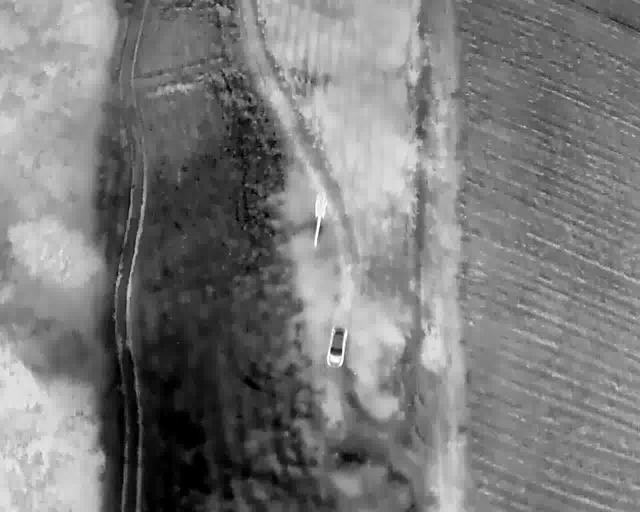car: (326, 327, 348, 368)
